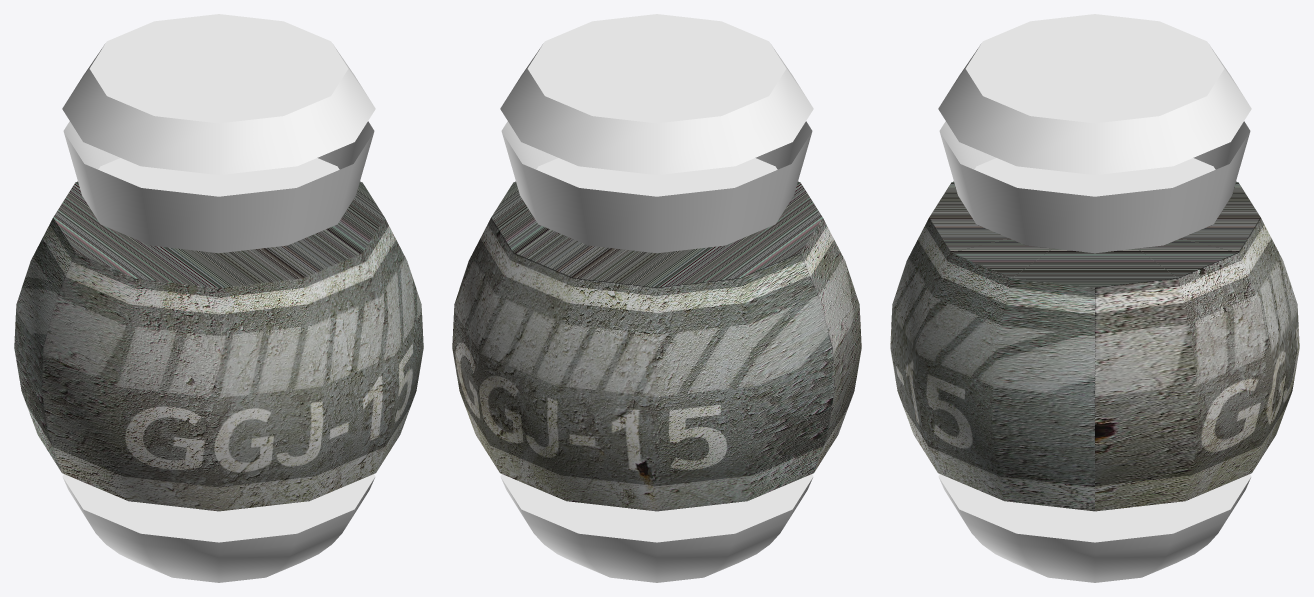
Rendered from RobotGen02.FBX.
The picture shows the model from 3 angles, left to right: view 1: azimuth 30°, elevation 25°; view 2: azimuth 150°, elevation 25°; view 3: azimuth 270°, elevation 25°; orthographic projection.
Visible parts, largest first — view 1: Cylinder002, Cylinder003, Cylinder004; view 2: Cylinder002, Cylinder003, Cylinder004; view 3: Cylinder002, Cylinder003, Cylinder004.
Boxes of the visible parts, left/top/right/bottom form: Cylinder002: left=14, top=181, right=423, bottom=511; Cylinder003: left=62, top=14, right=375, bottom=253; Cylinder004: left=62, top=474, right=375, bottom=582; Cylinder002: left=452, top=181, right=861, bottom=511; Cylinder003: left=500, top=14, right=813, bottom=253; Cylinder004: left=500, top=474, right=813, bottom=582; Cylinder002: left=890, top=181, right=1299, bottom=511; Cylinder003: left=938, top=14, right=1251, bottom=253; Cylinder004: left=938, top=474, right=1251, bottom=582.
Bounding box in the file's own units: 1.2 × 1.2 × 1.53.
2 materials, 1 textured.
